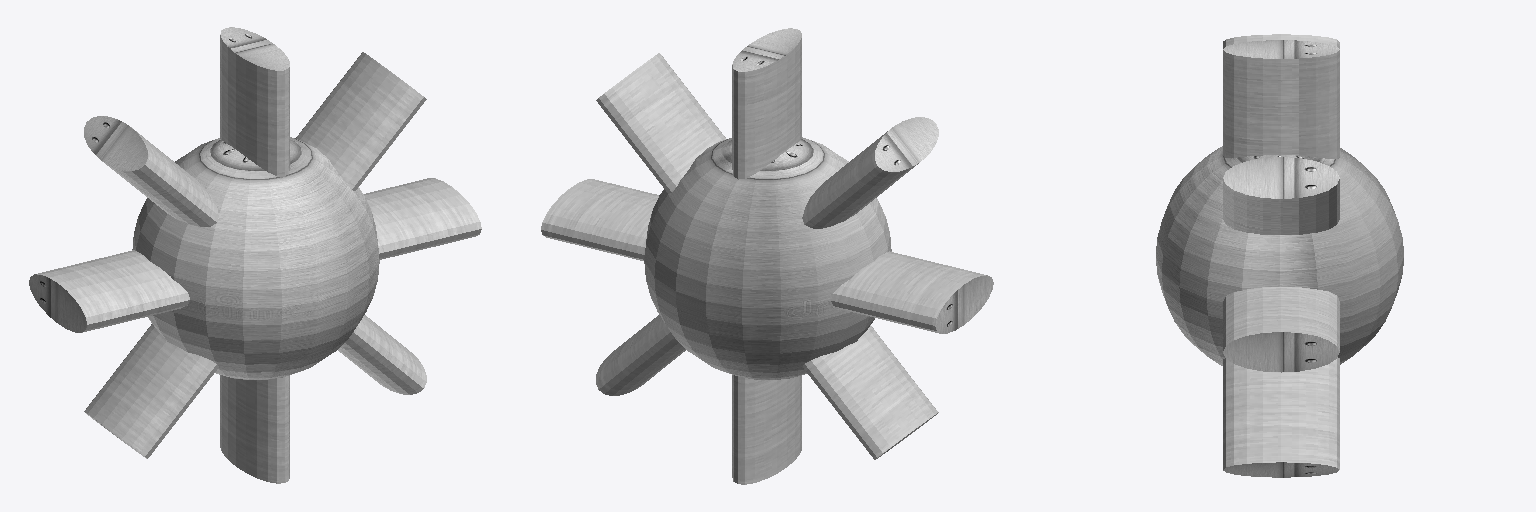
3 renders of one model, left to right at view 1: azimuth 30°, elevation 25°; view 2: azimuth 150°, elevation 25°; view 3: azimuth 270°, elevation 25°, orthographic.
Visible parts, largest first — view 1: pSphere2; view 2: pSphere2; view 3: pSphere2.
Boxes of the visible parts, <box> form: pSphere2: <box>29,27,481,483</box>; pSphere2: <box>541,28,993,484</box>; pSphere2: <box>1156,34,1403,477</box>.
Size of the model in its own units: 0.529 by 0.529 by 0.2888.
1 materials, 1 textured.